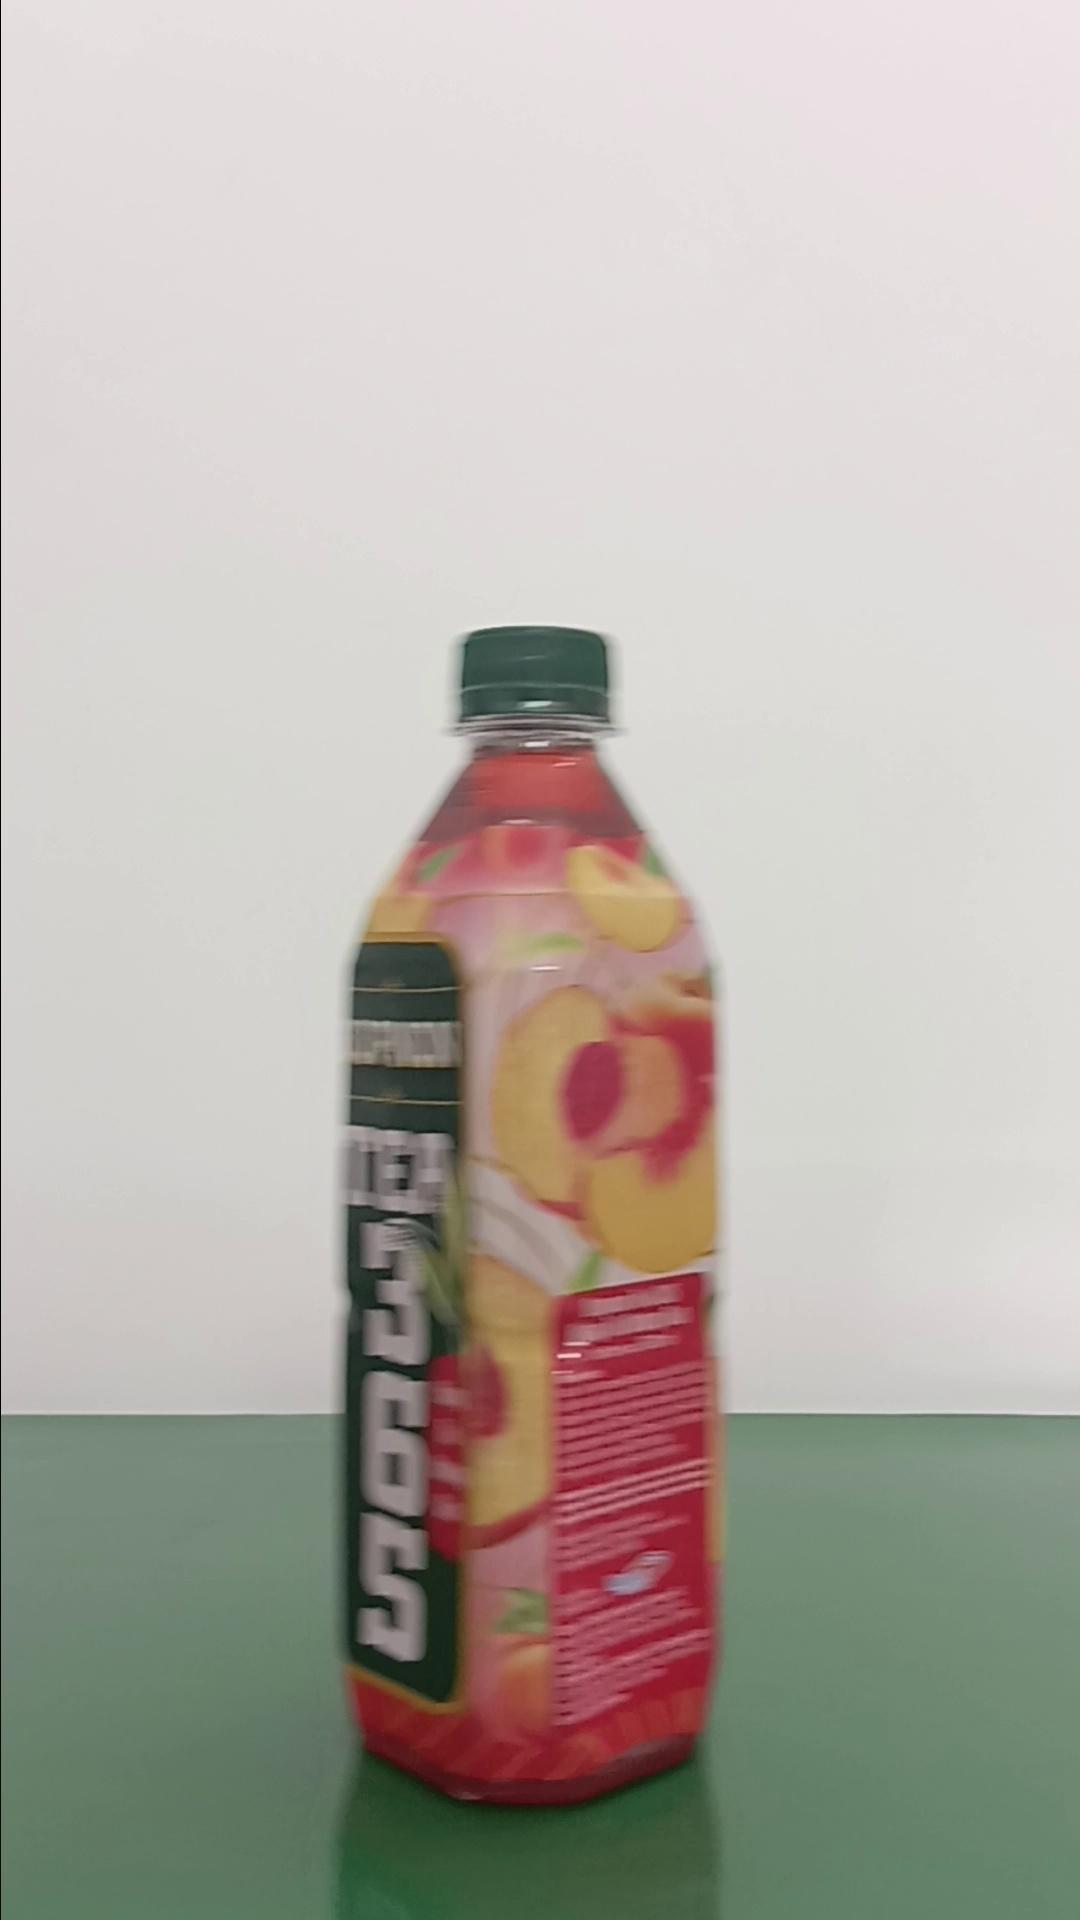khong loi: (334, 621, 729, 1807)
